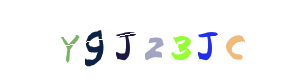3: (142, 0, 222, 80)
C: (188, 0, 268, 80)
G: (65, 0, 145, 80)
J: (104, 0, 184, 80), (167, 0, 247, 80)
Y: (41, 0, 121, 80)
Z: (112, 0, 192, 80)
